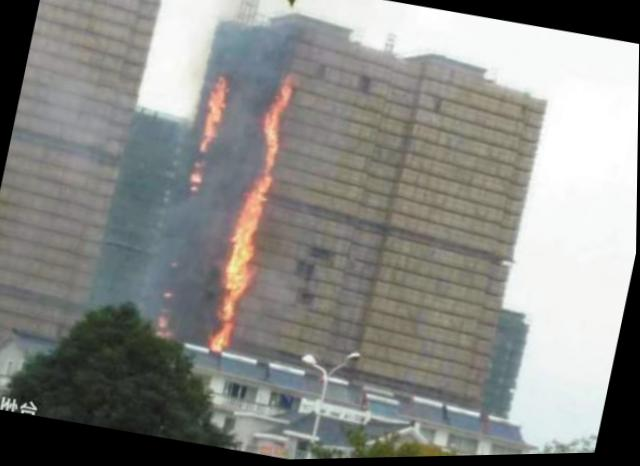fire: (195, 66, 305, 375), (182, 72, 237, 198)
